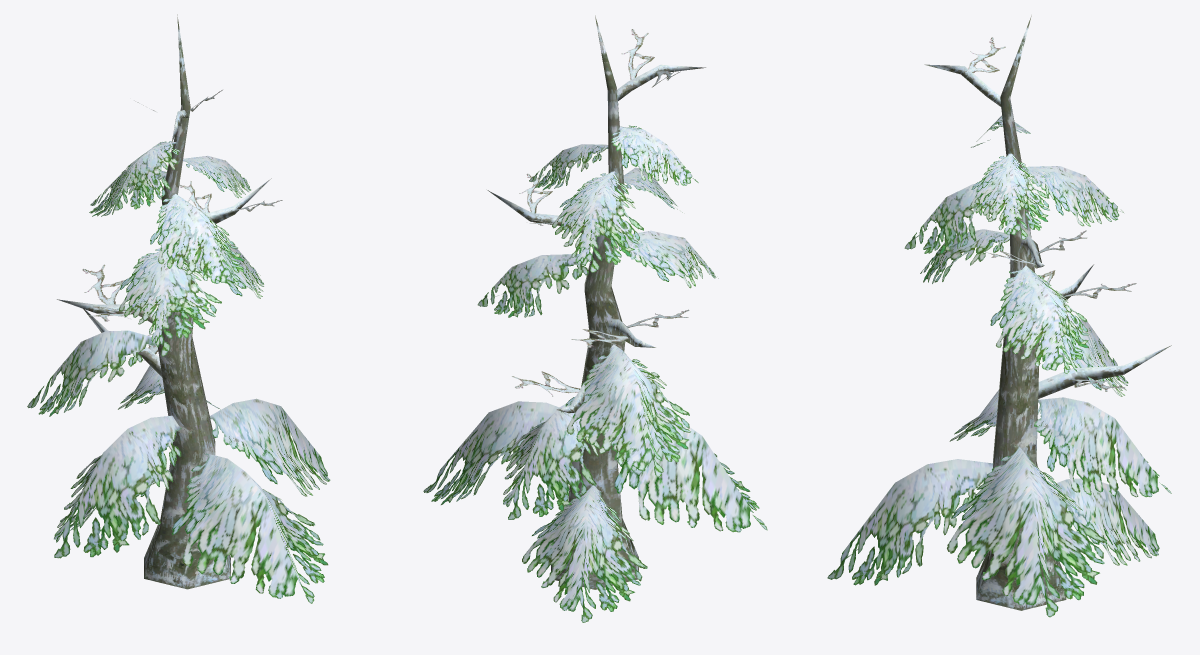
The model's file is nml-bd118.glb.
3 views of the same model, side by side, from view 1: azimuth 30°, elevation 25°; view 2: azimuth 150°, elevation 25°; view 3: azimuth 270°, elevation 25° (orthographic). The views are drawn at different scales.
Visible parts, largest first — view 1: geom_node_0; view 2: geom_node_0; view 3: geom_node_0.
Boxes of the visible parts, box(x1,y1,x2,y2) form: geom_node_0: box(27, 14, 330, 603); geom_node_0: box(423, 15, 767, 622); geom_node_0: box(827, 15, 1171, 617).
Bounding box in the file's own units: 6.84 × 11.46 × 6.55.
2 materials, 2 textured.
